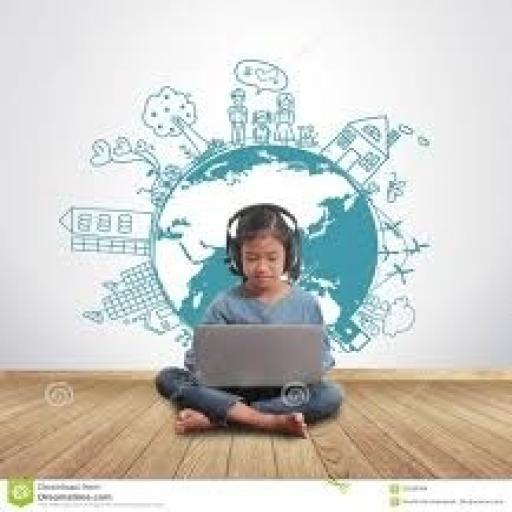using_laptop: (186, 322, 328, 388)
